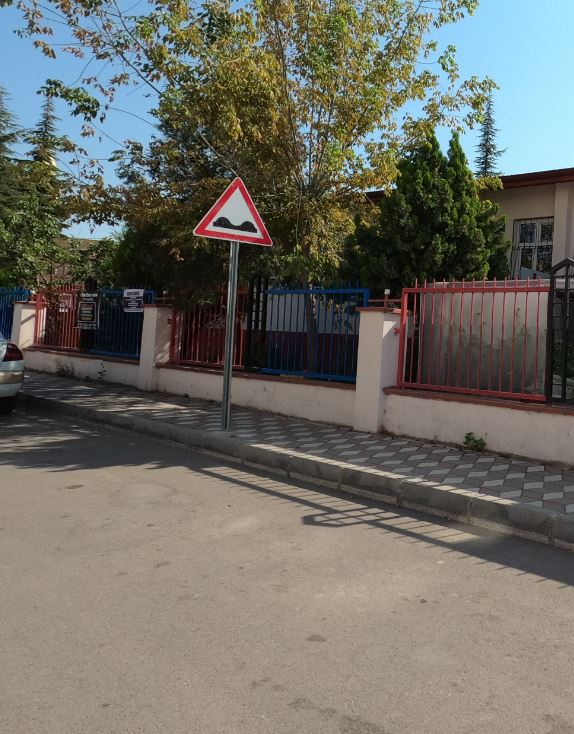Kasisli Yol: (193, 174, 275, 256)
